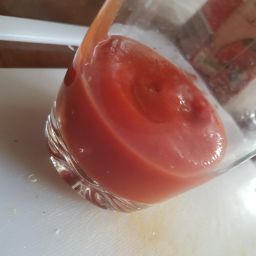Tomato paste: (66, 33, 226, 214), (75, 44, 208, 187)
